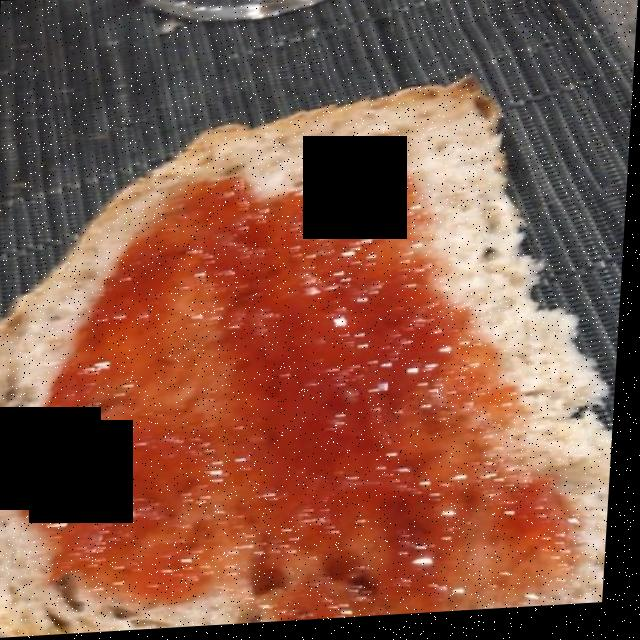bread-sourdough: (0, 89, 603, 631)
jam: (25, 169, 589, 609)
